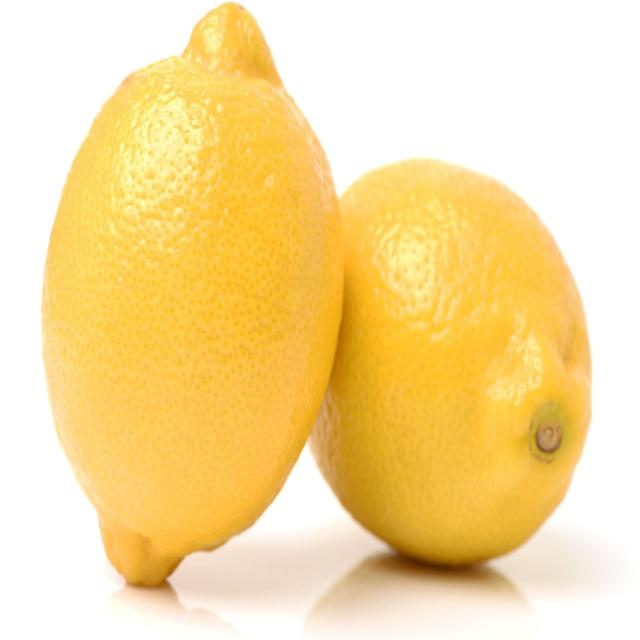lemon: (33, 1, 349, 608)
